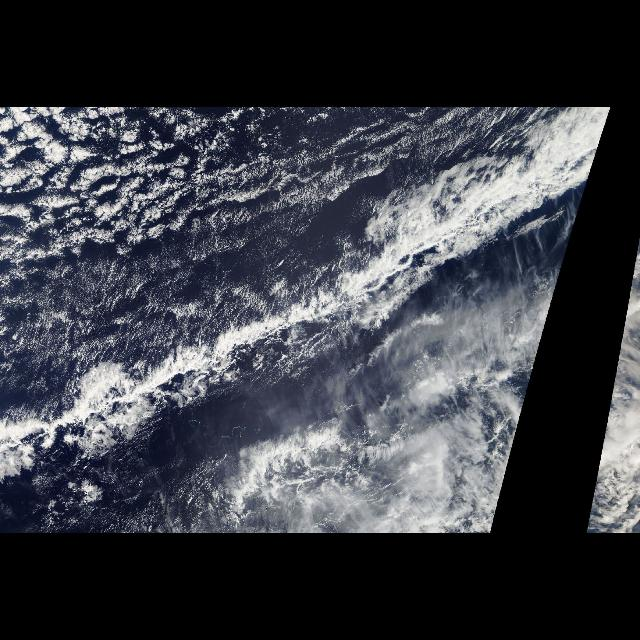Fish: (1, 116, 612, 474), (602, 346, 620, 449)
Sugar: (2, 109, 392, 339)
